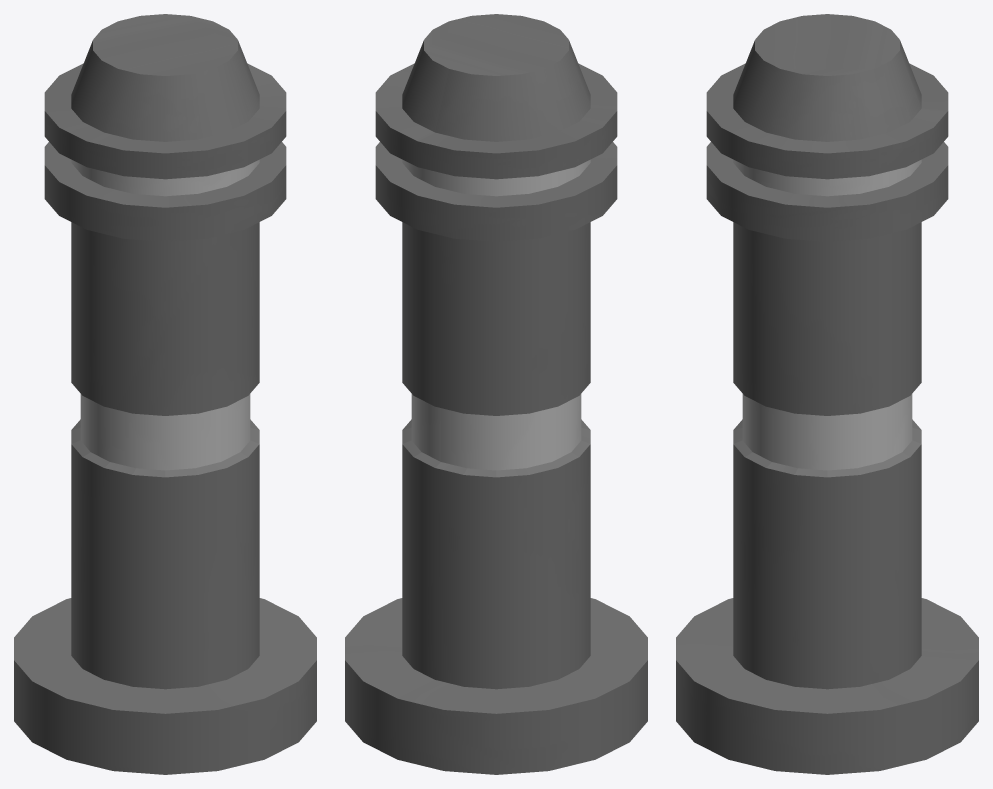
The model's file is Rod.fbx.
3 renders of one model, left to right at view 1: azimuth 30°, elevation 25°; view 2: azimuth 150°, elevation 25°; view 3: azimuth 270°, elevation 25°, orthographic.
Parts seen in each view (by area): view 1: Cylinder001; view 2: Cylinder001; view 3: Cylinder001.
Boxes of the visible parts, x1,y1,x2,y2 form: Cylinder001: [14, 14, 316, 774]; Cylinder001: [345, 14, 647, 774]; Cylinder001: [676, 14, 978, 774].
Bounding box in the file's own units: 31.68 × 75.54 × 31.2.
